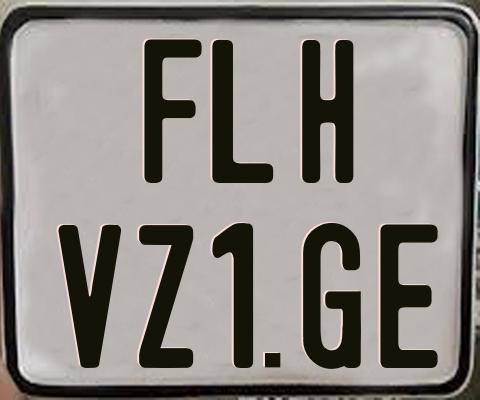1: (212, 223, 257, 370)
E: (377, 222, 435, 368)
F: (141, 39, 200, 185)
G: (303, 220, 362, 366)
H: (302, 40, 354, 189)
L: (210, 37, 271, 181)
V: (57, 223, 123, 370)
Z: (137, 225, 196, 370)
